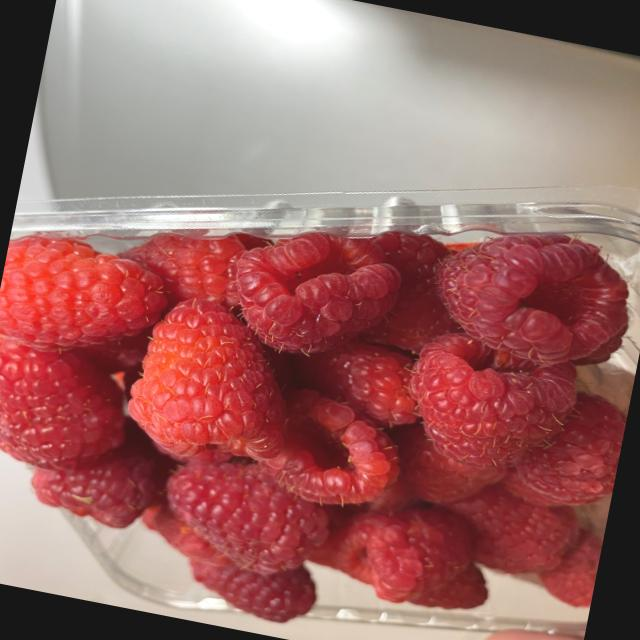raspberries: (0, 254, 622, 624)
